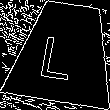L_N: (43, 25, 86, 80)
